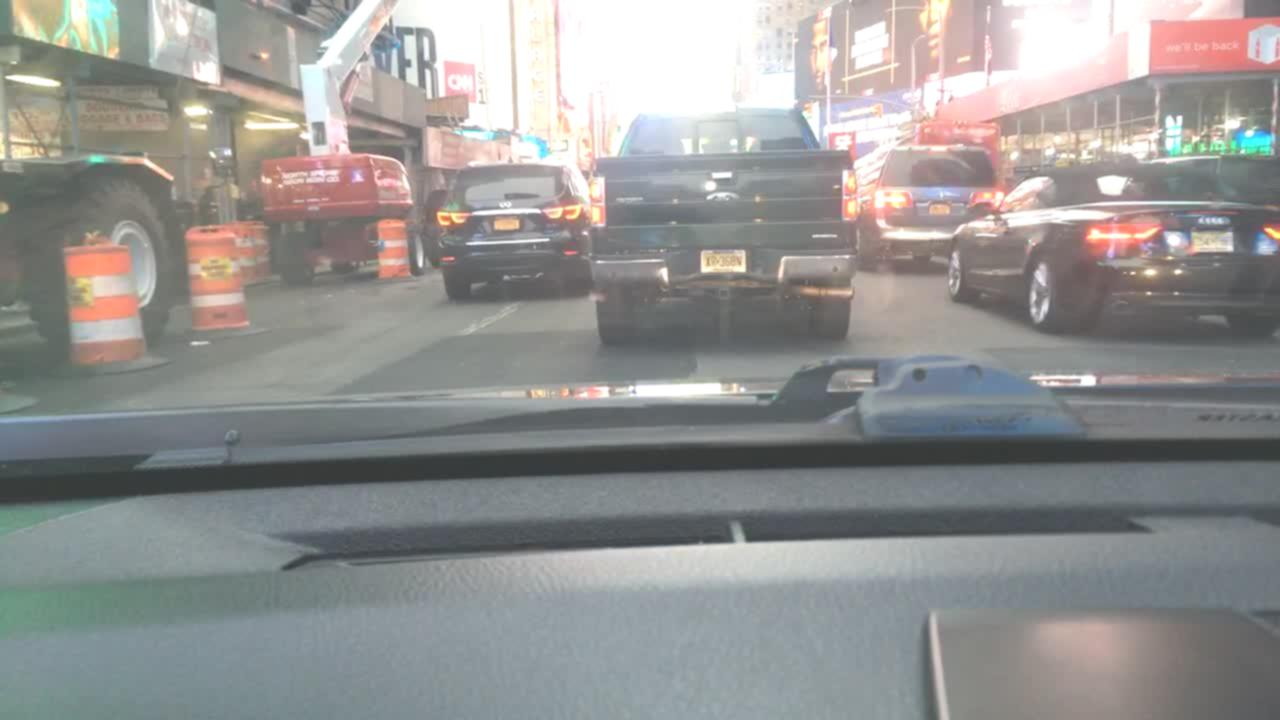Audi: (1192, 214, 1238, 230)
Infiniti: (497, 200, 519, 210)
ford: (692, 189, 762, 206)
